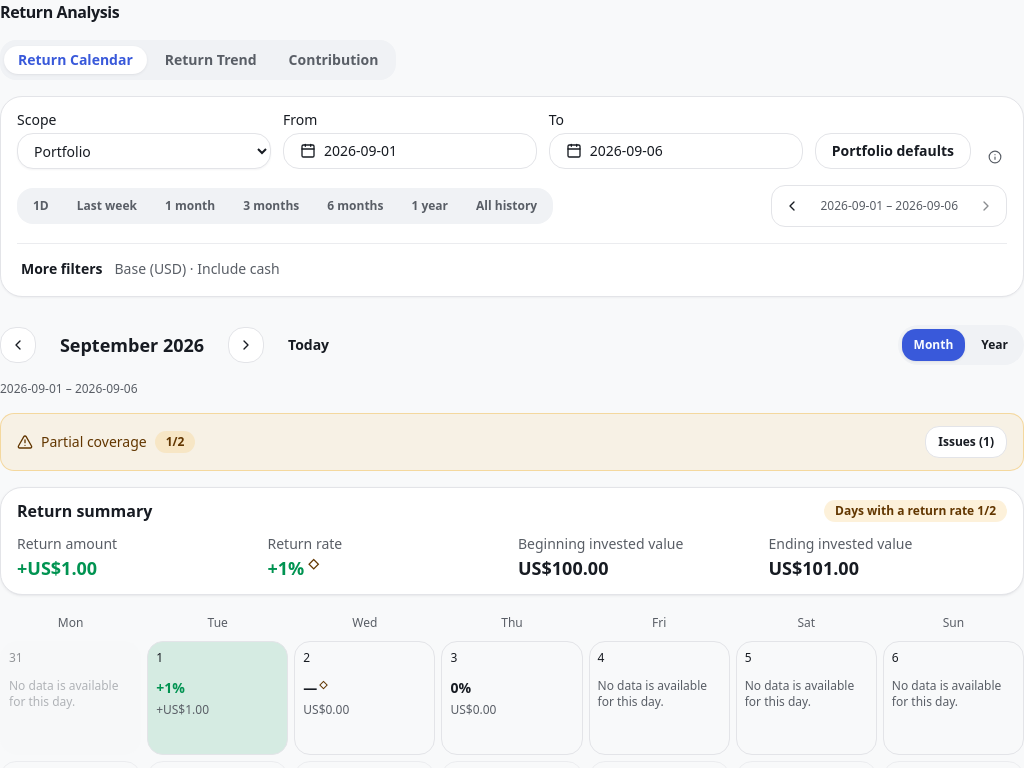
Test: ReturnAnalysisPage › opens the day sheet and carries the day and session into Asset Changes
The width and height of the screenshot is (1024, 768).
Expected: the text "Partial coverage" is shown, [41, 432, 147, 452]
Click the button "1 +1% +US$1.00" at (218, 698), box [156, 650, 279, 746]
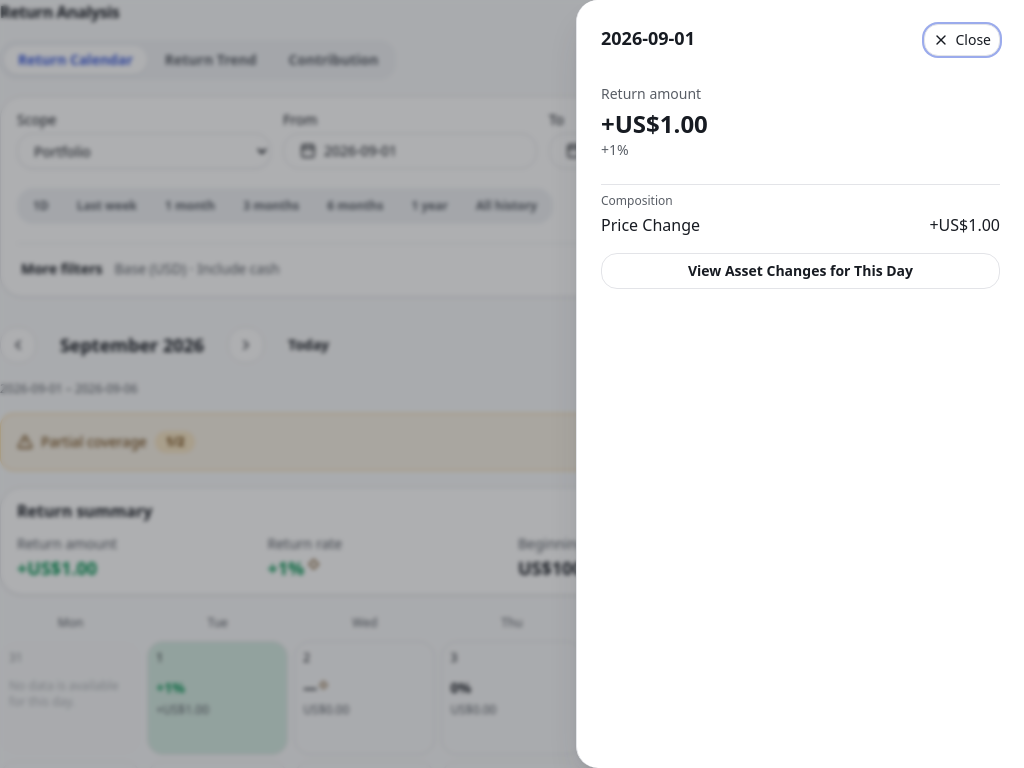
Expected: the button "View Asset Changes for This Day" is shown
Click the button "View Asset Changes for This Day" at (800, 271), box [601, 253, 1000, 289]
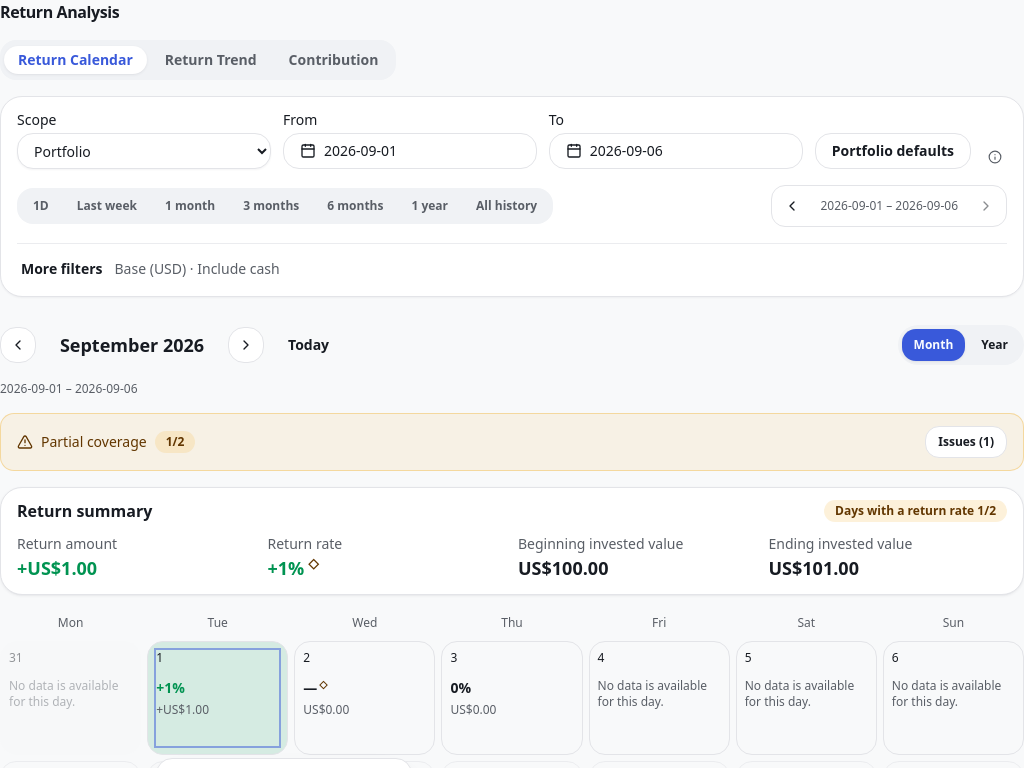
Expected: the dialog is gone
